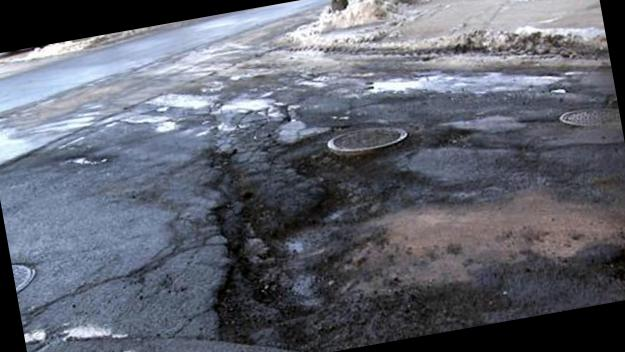pothole: (164, 69, 625, 352)
